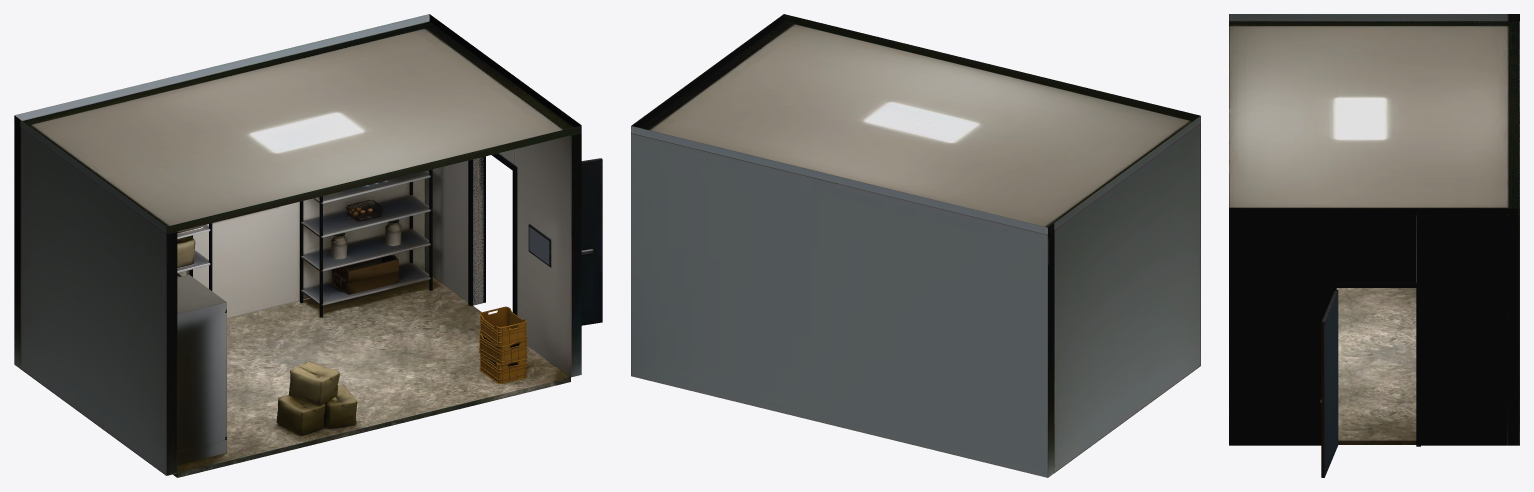
Rendered from world-sr.glb.
3 renders of one model, left to right at view 1: azimuth 30°, elevation 25°; view 2: azimuth 150°, elevation 25°; view 3: azimuth 270°, elevation 25°, orthographic. The views are drawn at different scales.
Parts seen in each view (by area): view 1: BK_sr_room, BK_sr_goods; view 2: BK_sr_room; view 3: BK_sr_room.
Part boxes in pixels (bbox=[...]): BK_sr_room: bbox=[14, 14, 602, 477]; BK_sr_goods: bbox=[177, 169, 527, 465]; BK_sr_room: bbox=[631, 14, 1200, 477]; BK_sr_room: bbox=[1229, 14, 1519, 477].
Size of the model in its own units: 6.71 by 3.36 by 3.65.
Materials: 4 (2 with a texture image).
